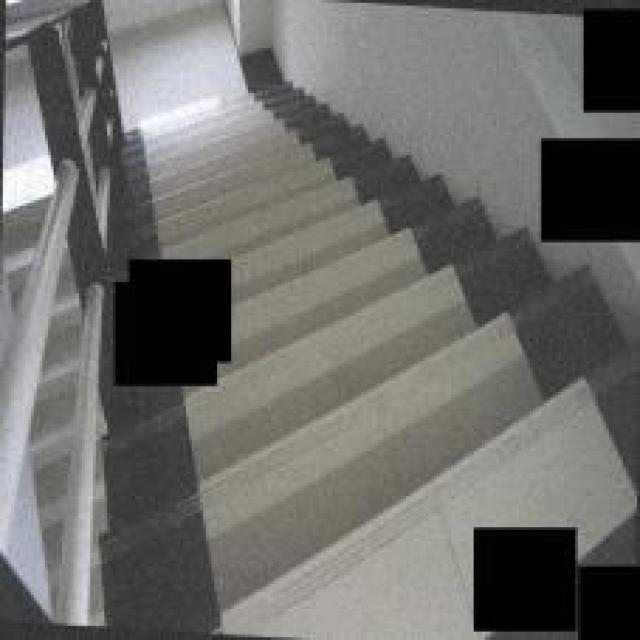downstair: (150, 128, 362, 255)
